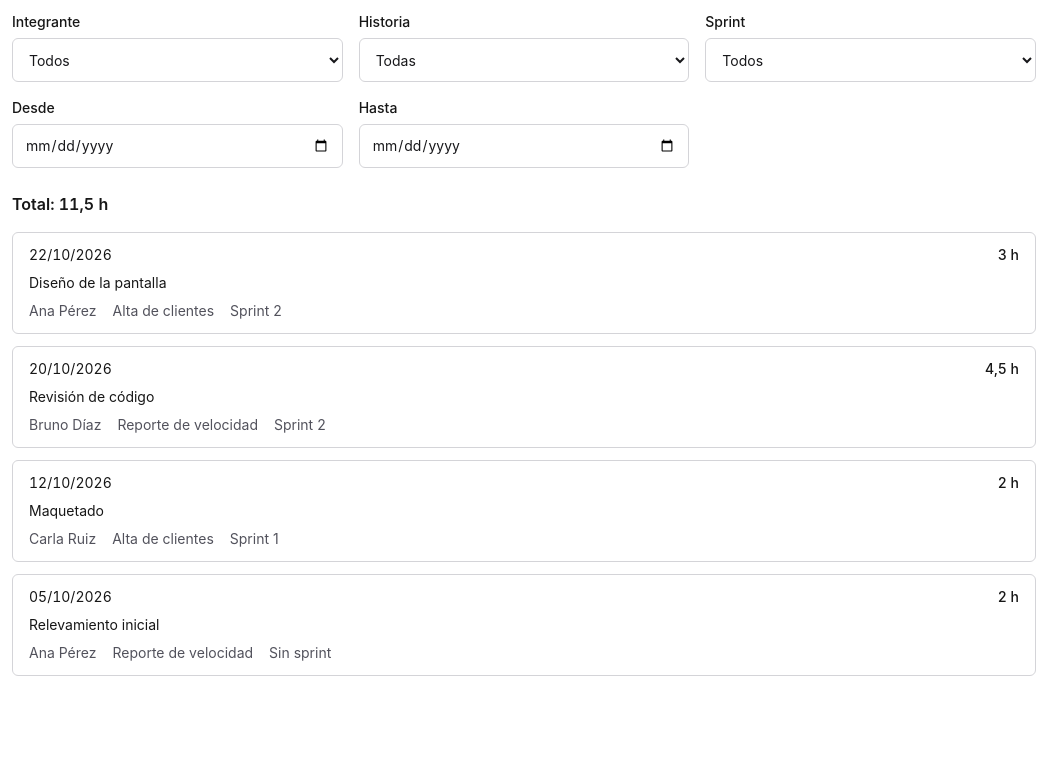
Scenario: 006/US4 - Consultar el esfuerzo del proyecto con filtros › Caso alternativo — rango de fechas e historia a la vez
Expected: the number of list items is 4, [12,232,1036,334]; [12,346,1036,448]; [12,460,1036,562]; [12,574,1036,676]
Expected: the list item that starts with "3 h" shows "Diseño de la pantalla", [29,274,166,291]
Type "2026-10-10" into the date field labelled "Desde" at x=177, y=146, box [12,124,343,168]
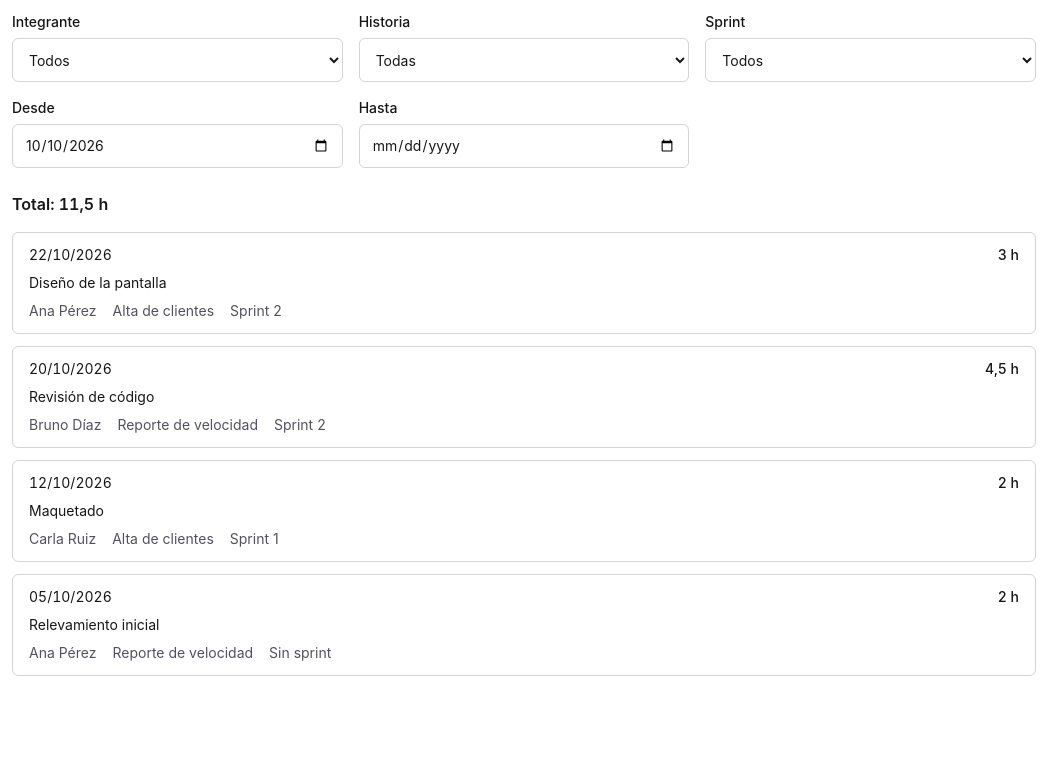
Type "2026-10-22" into the date field labelled "Hasta" at x=524, y=146, box [359,124,689,168]
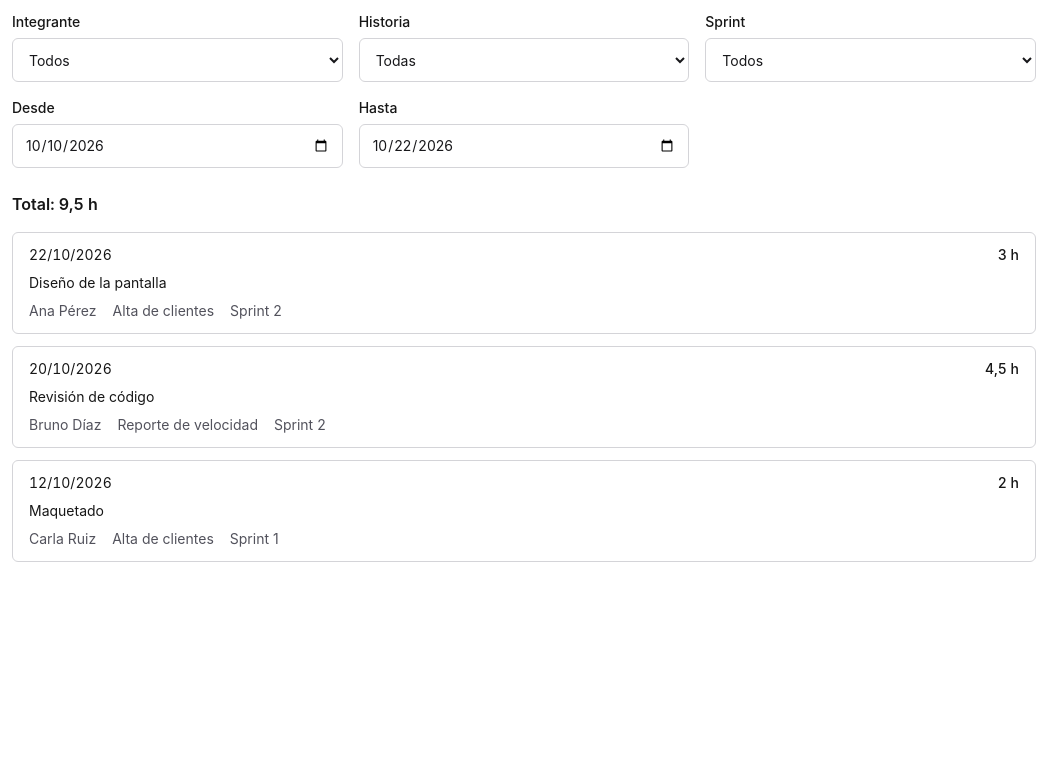
Select "Alta de clientes" in the dropdown labelled "Historia" at x=524, y=60, box [359,38,689,82]
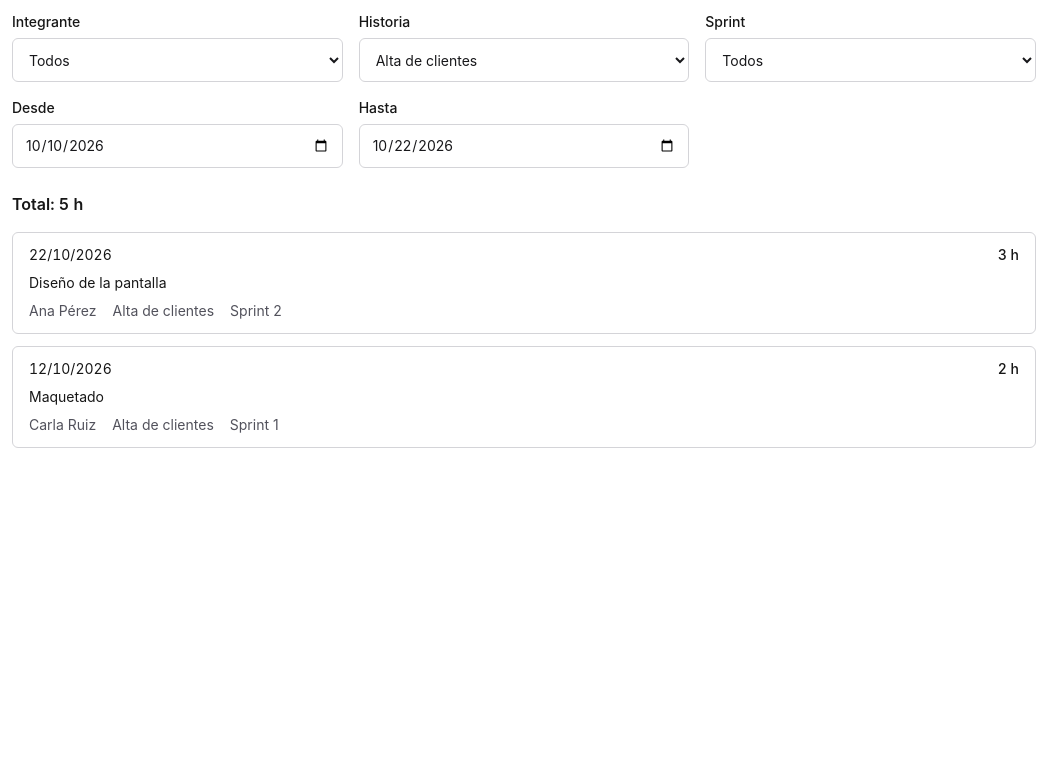
Expected: the list item that starts with "3 h" shows "Diseño de la pantalla", [29,274,166,291]
Now the number of list items is 2, box [12,232,1036,334]; [12,346,1036,448]
Now the text "Total: 5 h" is shown, box [12,194,83,214]
